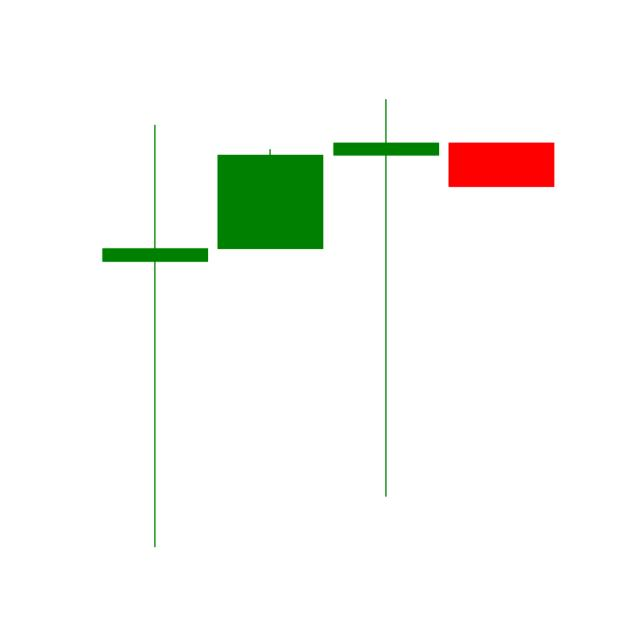Long-Legged Doji: (328, 94, 444, 501), (100, 124, 211, 548)
